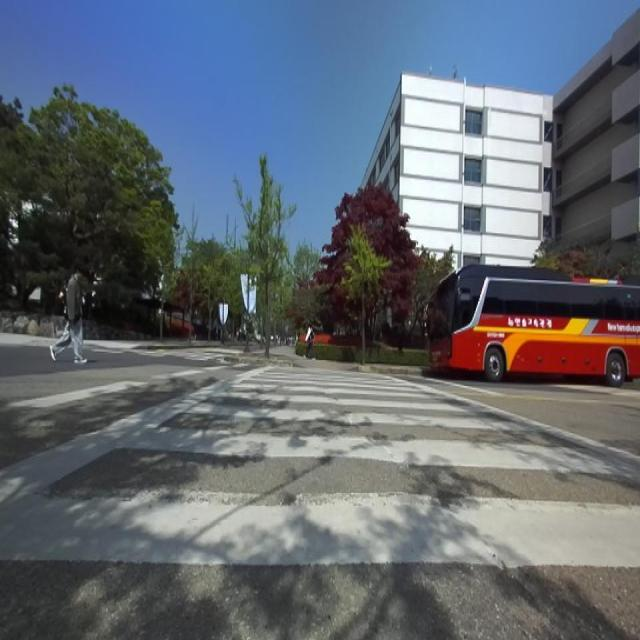sidewalk: (316, 357, 428, 371), (270, 346, 296, 360)
